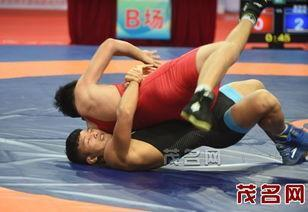Fall-Detected: (58, 1, 302, 167)
